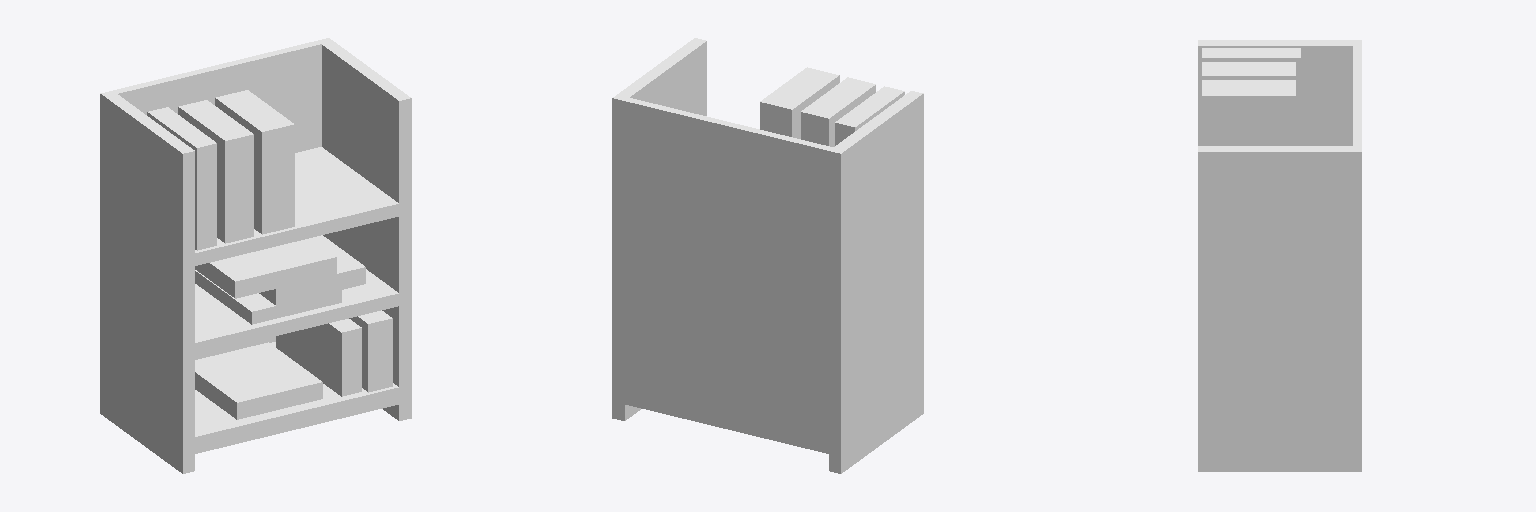
The model's file is librero.obj.
3 views of the same model, side by side, from view 1: azimuth 30°, elevation 25°; view 2: azimuth 150°, elevation 25°; view 3: azimuth 270°, elevation 25° (orthographic).
Parts seen in each view (by area): view 1: object 1; view 2: object 1; view 3: object 1.
Part boxes in pixels (x1,y1,x2,y2): object 1: (100, 38, 411, 473); object 1: (612, 38, 923, 473); object 1: (1198, 40, 1361, 471).
Bounding box in the file's own units: 5.6 × 7.5 × 3.5.